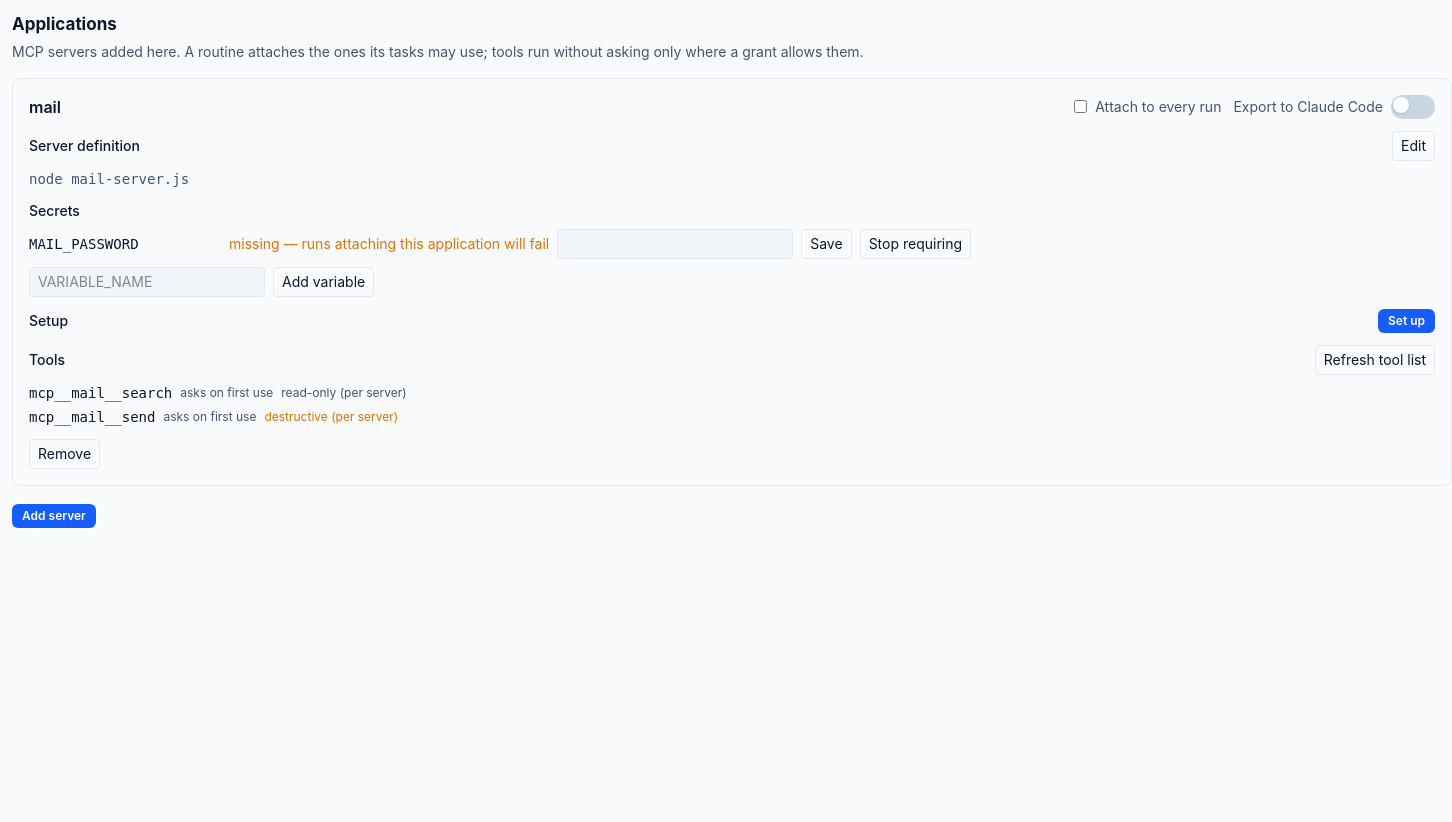
Scenario: applicationSettings › shows a 502 export error and keeps the switch off
Step 1. Click the switch with test id "application-export-res-mail" → click(1413, 106), box [1391,94,1435,118]
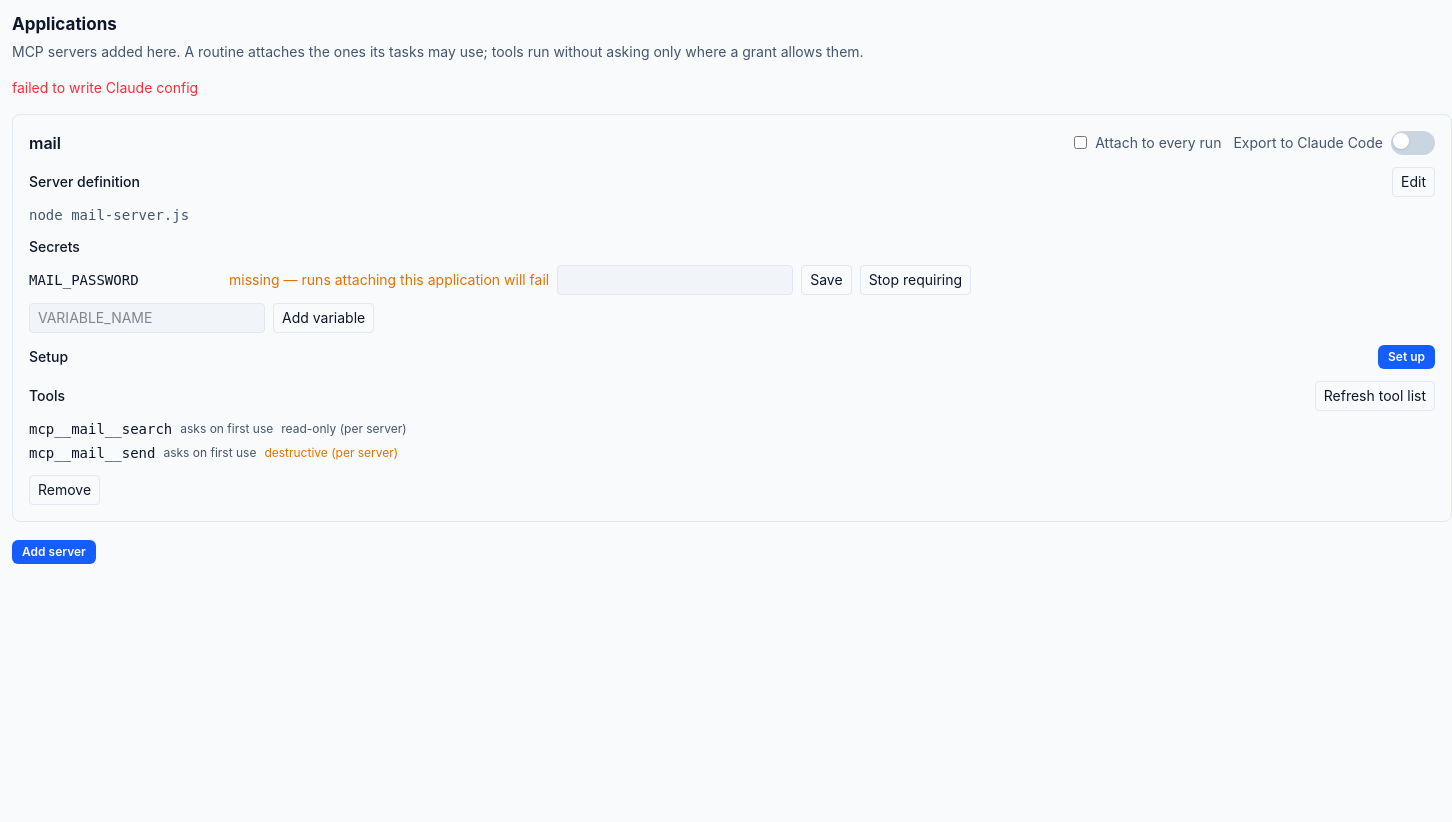
Expected: the text "failed to write Claude config" is shown, [12,78,198,96]
